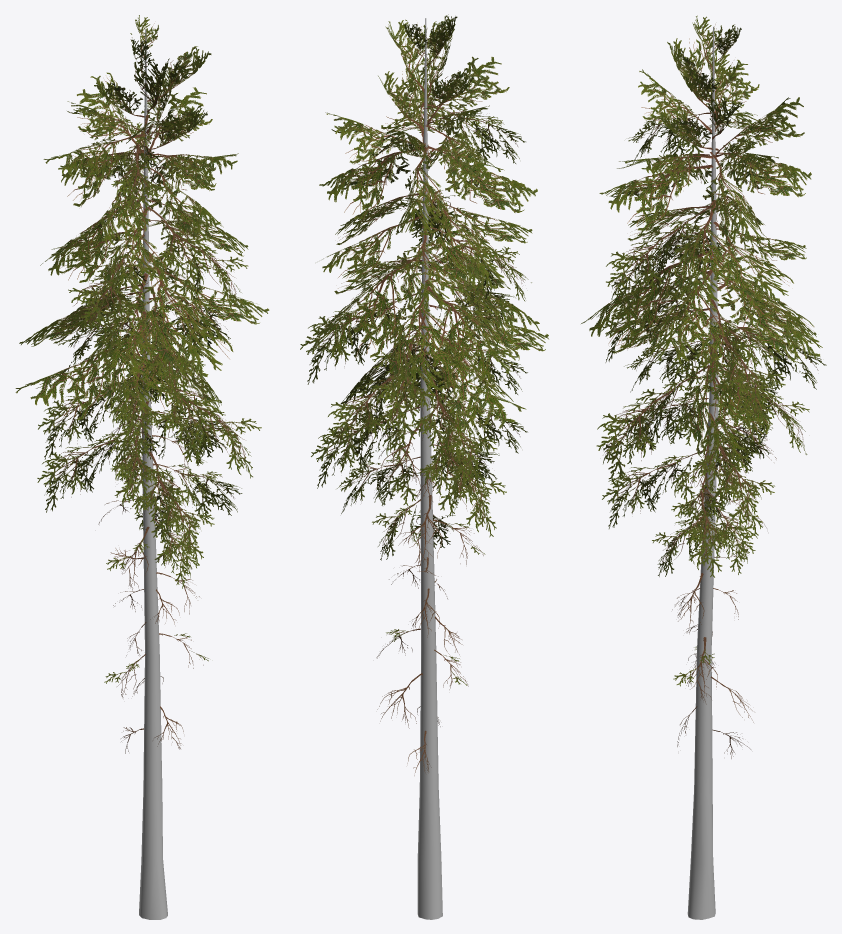
File: redwood_02.obj
3 renders of one model, left to right at view 1: azimuth 30°, elevation 25°; view 2: azimuth 150°, elevation 25°; view 3: azimuth 270°, elevation 25°, orthographic. The views are drawn at different scales.
Visible parts, largest first — view 1: Redwood_02; view 2: Redwood_02; view 3: Redwood_02.
Part boxes in pixels (x1=…): Redwood_02: x1=15, y1=15, x2=269, y2=919; Redwood_02: x1=300, y1=14, x2=548, y2=919; Redwood_02: x1=581, y1=15, x2=826, y2=919.
Bounding box in the file's own units: 11.22 × 44.55 × 11.33.
